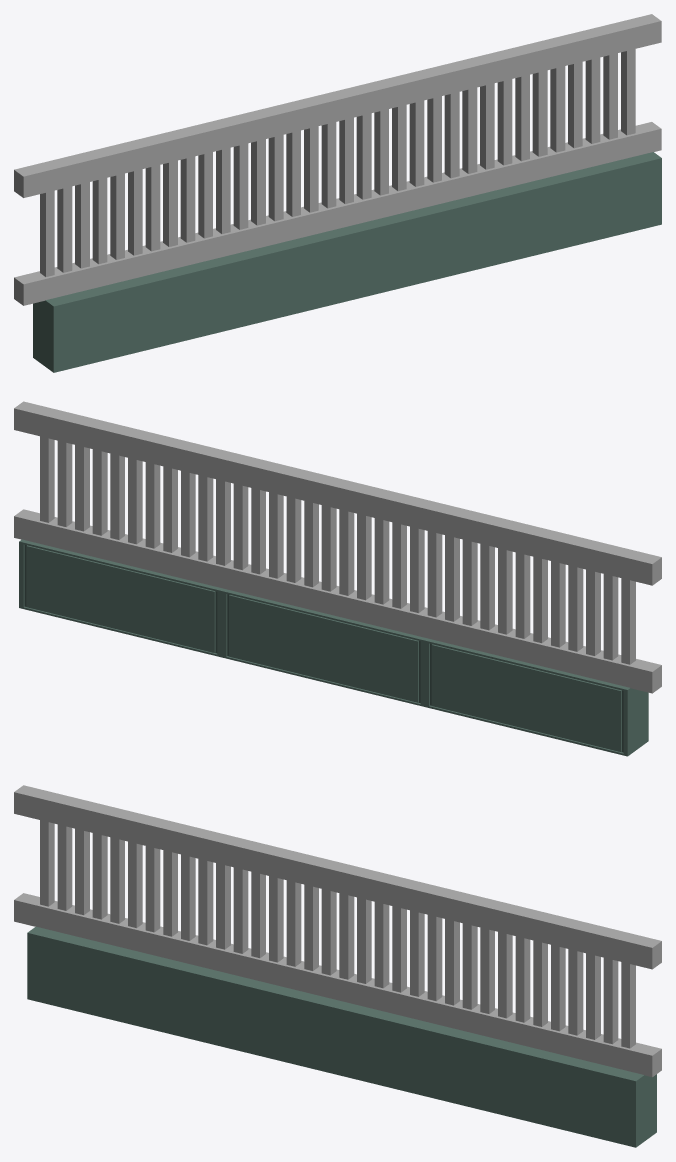
The model's file is Wall_Rails.fbx.
The picture shows the model from 3 angles, top to bottom: view 1: azimuth 30°, elevation 25°; view 2: azimuth 150°, elevation 25°; view 3: azimuth 330°, elevation 25°; orthographic projection.
Parts seen in each view (by area): view 1: WallRails, Wall; view 2: WallRails, Wall; view 3: WallRails, Wall.
Boxes of the visible parts, <box> form: WallRails: <box>14,14,661,305</box>; Wall: <box>33,152,661,372</box>; WallRails: <box>14,401,661,693</box>; Wall: <box>19,539,648,756</box>; WallRails: <box>14,785,661,1077</box>; Wall: <box>27,926,656,1147</box>.
Bounding box in the file's own units: 1701 × 498 × 96.36.
Materials: 2 (2 with a texture image).
